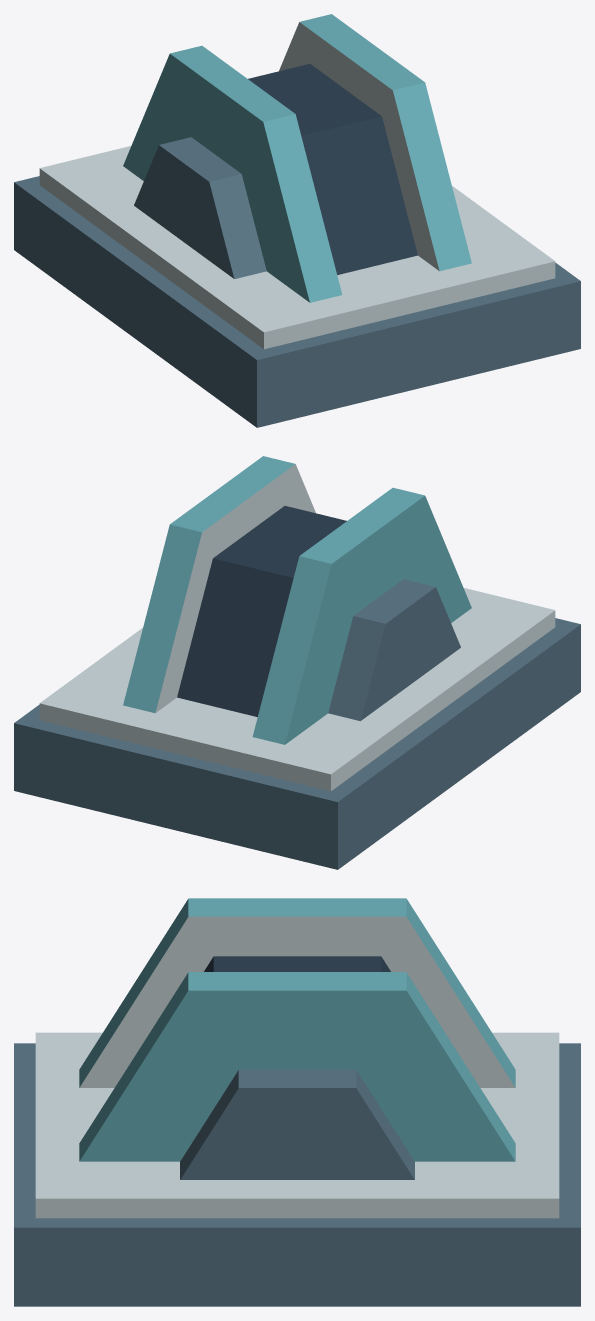
Rendered from machine_generatorLarge.glb.
3 views of the same model, one above another, from view 1: azimuth 30°, elevation 25°; view 2: azimuth 150°, elevation 25°; view 3: azimuth 270°, elevation 25° (orthographic). The views are drawn at different scales.
Parts seen in each view (by area): view 1: machine_generatorLarge; view 2: machine_generatorLarge; view 3: machine_generatorLarge.
Boxes of the visible parts, bbox=[...] form: machine_generatorLarge: bbox=[14, 14, 580, 427]; machine_generatorLarge: bbox=[14, 456, 580, 869]; machine_generatorLarge: bbox=[14, 898, 580, 1306].
Bounding box in the file's own units: 1 × 0.683 × 1.3.
